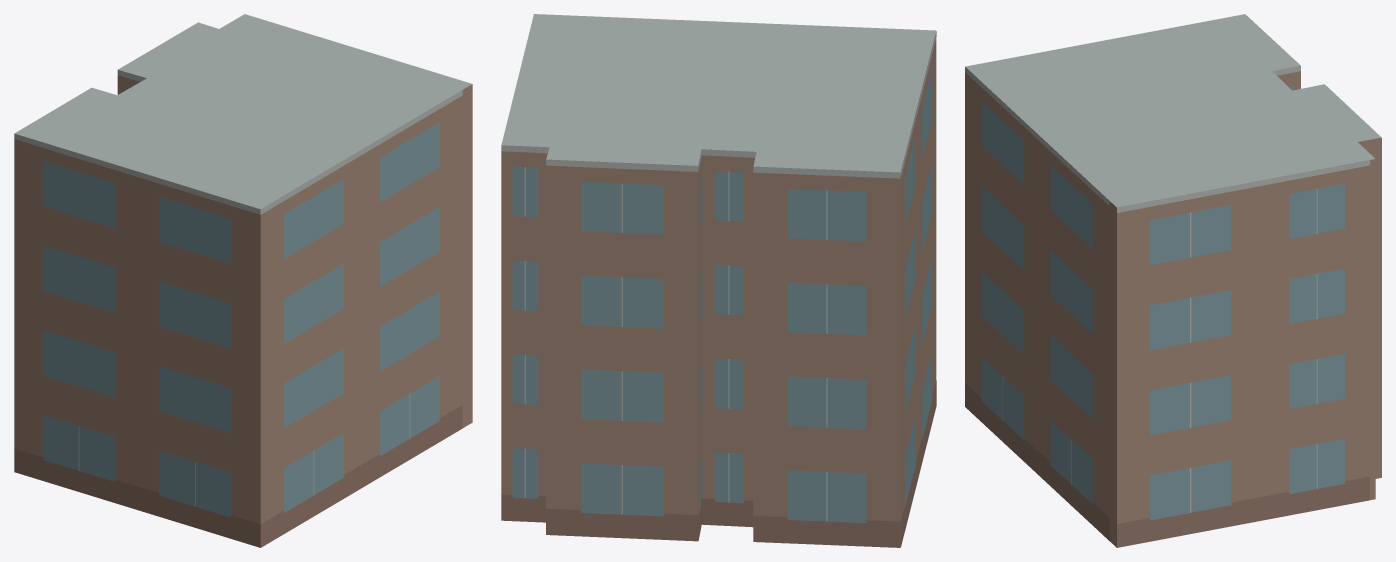
File: survey-upis-32732807.glb
3 renders of one model, left to right at view 1: azimuth 30°, elevation 25°; view 2: azimuth 150°, elevation 25°; view 3: azimuth 270°, elevation 25°, orthographic. The views are drawn at different scales.
Parts seen in each view (by area): view 1: survey-upis-32732807.tmp; view 2: survey-upis-32732807.tmp; view 3: survey-upis-32732807.tmp.
Boxes of the visible parts, bbox=[...] form: survey-upis-32732807.tmp: bbox=[14, 14, 472, 547]; survey-upis-32732807.tmp: bbox=[501, 14, 936, 547]; survey-upis-32732807.tmp: bbox=[965, 14, 1381, 547].
Size of the model in its own units: 18.37 by 15.05 by 16.71.
